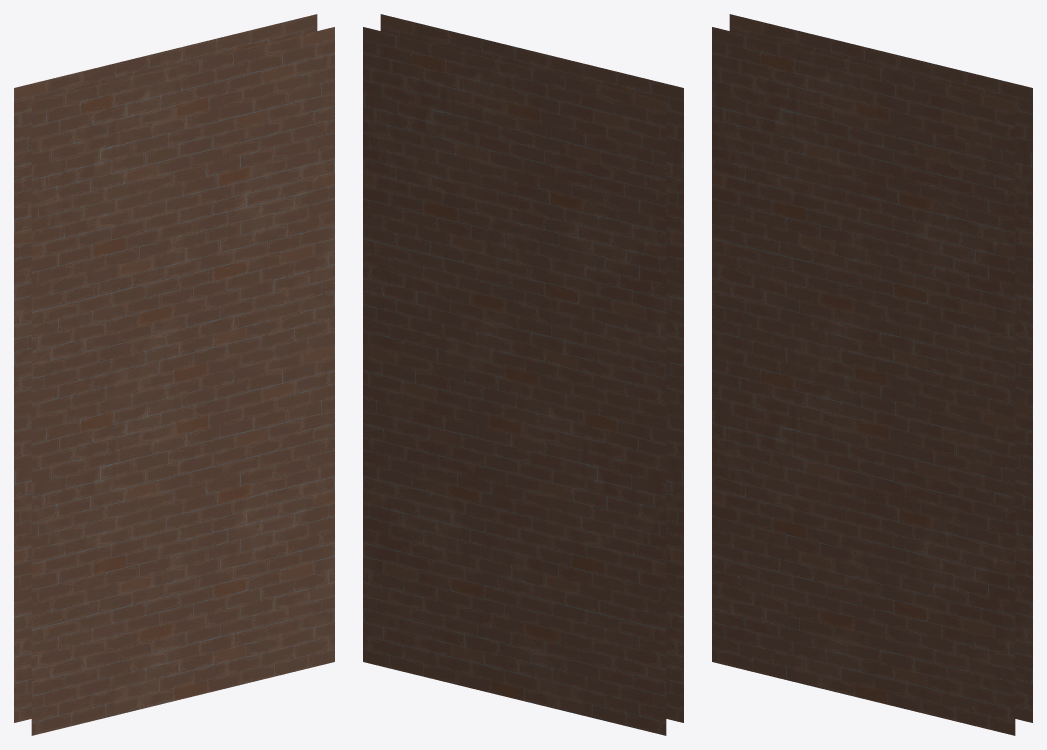
The model's file is q-downtown-brick-plain-4.glb.
The picture shows the model from 3 angles, left to right: view 1: azimuth 30°, elevation 25°; view 2: azimuth 150°, elevation 25°; view 3: azimuth 330°, elevation 25°; orthographic projection.
Parts seen in each view (by area): view 1: Brick_Plain_4; view 2: Brick_Plain_4; view 3: Brick_Plain_4.
Boxes of the visible parts, bbox=[...] form: Brick_Plain_4: bbox=[14, 14, 334, 735]; Brick_Plain_4: bbox=[363, 14, 683, 735]; Brick_Plain_4: bbox=[712, 14, 1032, 735].
Bounding box in the file's own units: 2 × 4 × 0.2.
Materials: 2 (2 with a texture image).
